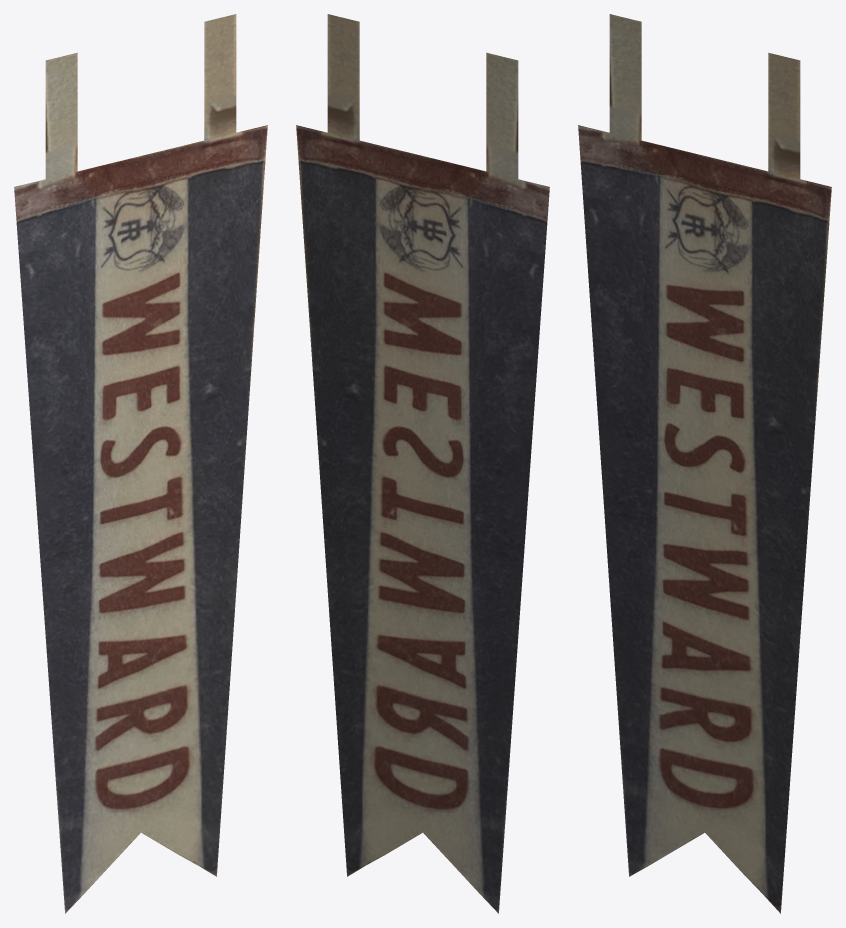
File: westWardglb.glb
3 renders of one model, left to right at view 1: azimuth 30°, elevation 25°; view 2: azimuth 150°, elevation 25°; view 3: azimuth 330°, elevation 25°, orthographic.
Parts seen in each view (by area): view 1: Plane; view 2: Plane; view 3: Plane.
Boxes of the visible parts, x1=… form: Plane: x1=14, y1=14, x2=267, y2=913; Plane: x1=296, y1=14, x2=549, y2=913; Plane: x1=578, y1=14, x2=831, y2=913.
Bounding box in the file's own units: 0.8258 × 2.67 × 2.92e-08.
1 material, 1 textured.
